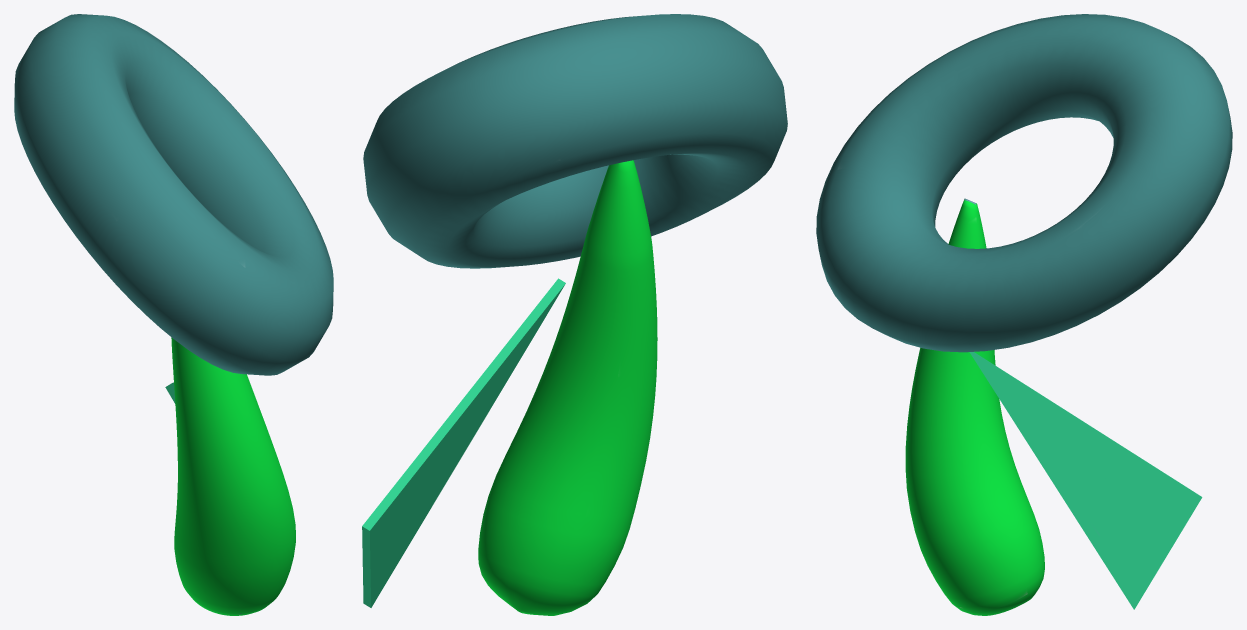
File: R comp.glb
3 renders of one model, left to right at view 1: azimuth 30°, elevation 25°; view 2: azimuth 150°, elevation 25°; view 3: azimuth 270°, elevation 25°, orthographic. The views are drawn at different scales.
Parts seen in each view (by area): view 1: R; view 2: R; view 3: R.
Part boxes in pixels (box(x1,y1,x2,y2)): R: box(14, 14, 333, 615); R: box(362, 14, 787, 615); R: box(816, 14, 1232, 615).
Bounding box in the file's own units: 0.6812 × 1.37 × 0.9455.
Materials: 1 (1 with a texture image).
